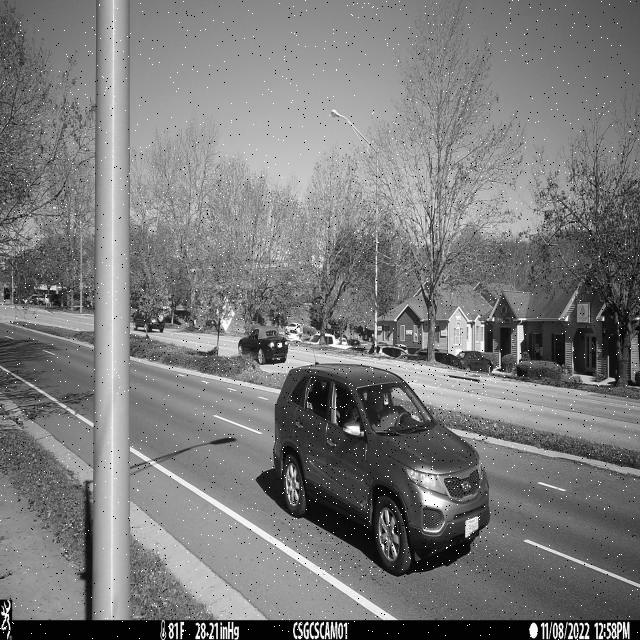SUV: (273, 364, 490, 576)
